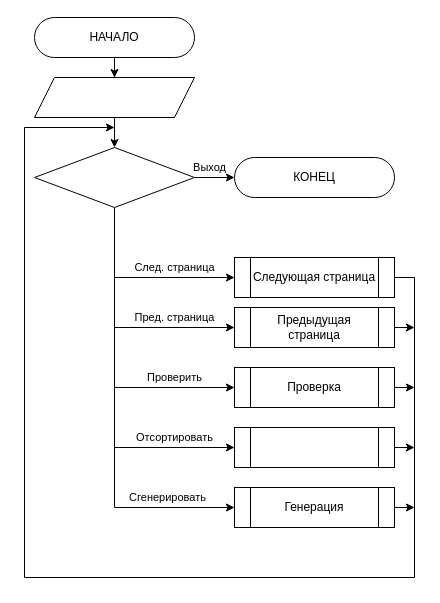
This 440x603 diagram has some shape labels left out. The shapes that lost their labels are listed below. From the top down, each one's centre as x and y in pixels, then its label:
At point (114, 97): "Ожидание действия пользователя".
At point (114, 177): "Действие?".
At point (314, 447): "Сортировка".
